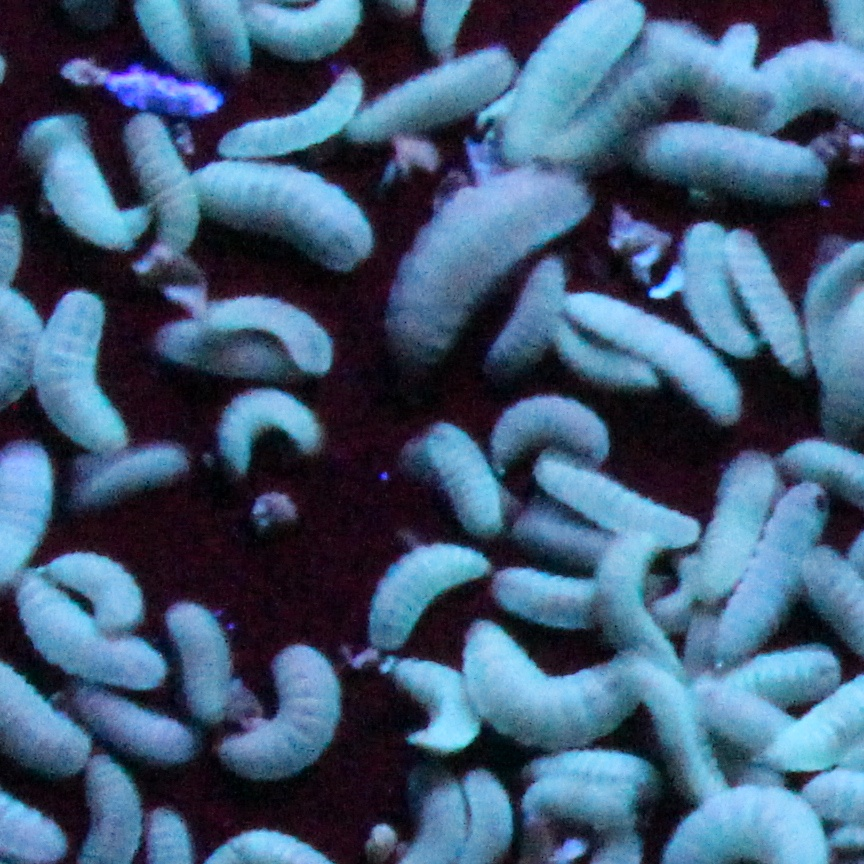larve: (394, 168, 594, 352), (452, 610, 654, 755), (561, 281, 743, 425), (525, 431, 702, 556), (9, 106, 156, 256), (3, 575, 173, 698), (185, 158, 375, 268), (623, 112, 836, 208), (347, 33, 520, 146), (28, 285, 136, 464), (219, 631, 342, 783), (363, 531, 498, 658), (17, 575, 169, 686), (214, 59, 375, 160), (690, 443, 783, 598), (715, 223, 813, 368), (479, 379, 617, 481), (186, 285, 344, 371), (677, 210, 763, 366), (119, 110, 204, 260), (377, 648, 486, 758), (208, 387, 335, 475), (481, 256, 569, 383), (161, 594, 240, 731), (36, 543, 154, 633), (426, 417, 504, 538), (79, 446, 183, 496)
